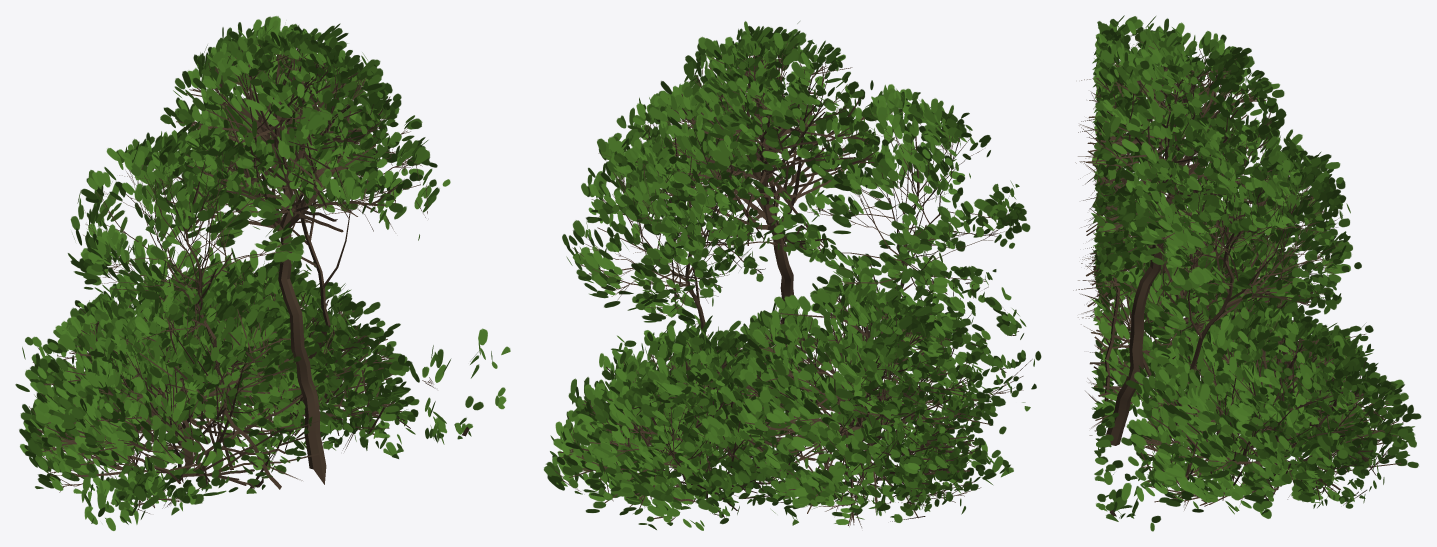
3 views of the same model, side by side, from view 1: azimuth 30°, elevation 25°; view 2: azimuth 150°, elevation 25°; view 3: azimuth 270°, elevation 25° (orthographic). The views are drawn at different scales.
Parts seen in each view (by area): view 1: oak 01.001_trunk_Mat.001_0.428; view 2: oak 01.001_trunk_Mat.001_0.428; view 3: oak 01.001_trunk_Mat.001_0.428.
Part boxes in pixels (box(x1,y1,x2,y2)): oak 01.001_trunk_Mat.001_0.428: box(15, 16, 510, 530); oak 01.001_trunk_Mat.001_0.428: box(543, 21, 1041, 530); oak 01.001_trunk_Mat.001_0.428: box(1073, 15, 1421, 531).
Bounding box in the file's own units: 5 × 4.91 × 3.53.
Materials: 2 (1 with a texture image).
